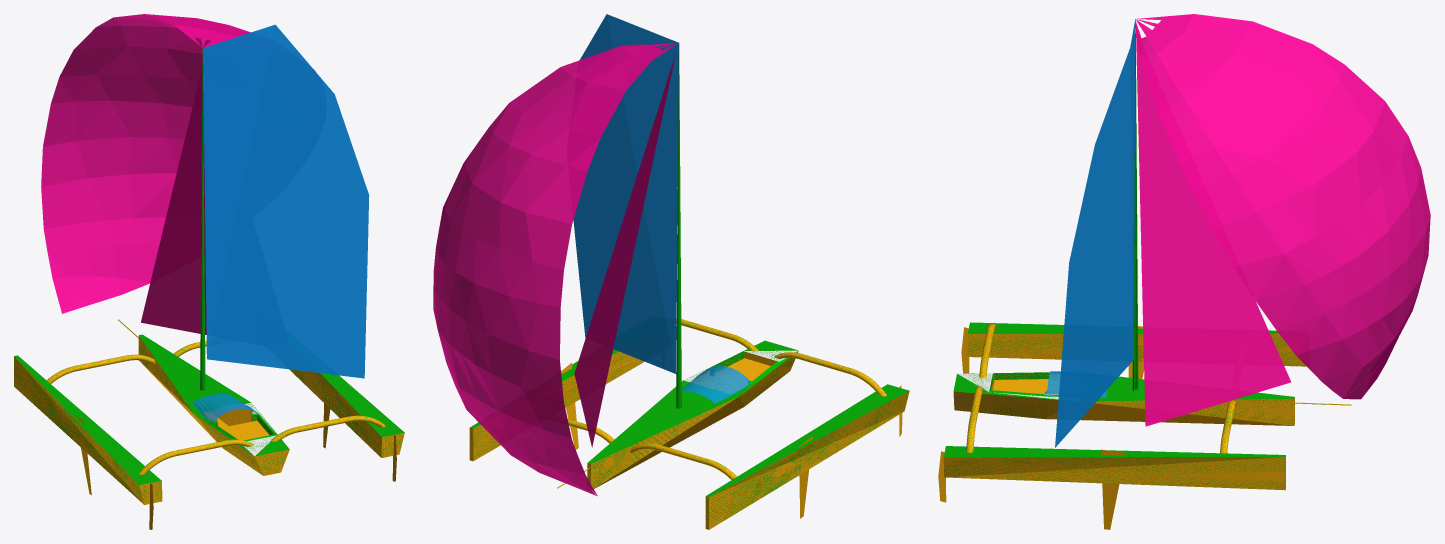
The model's file is spi_babord_trimaran.dae.
3 views of the same model, side by side, from view 1: azimuth 30°, elevation 25°; view 2: azimuth 150°, elevation 25°; view 3: azimuth 270°, elevation 25° (orthographic). The views are drawn at different scales.
Visible parts, largest first — view 1: SketchUp (×17); view 2: SketchUp (×16); view 3: SketchUp (×15).
Boxes of the visible parts, x1,y1,x2,y2 form: SketchUp (×17): [14, 14, 404, 504]; SketchUp (×16): [433, 14, 909, 529]; SketchUp (×15): [943, 14, 1430, 529].
Bounding box in the file's own units: 104604 × 132510 × 137644.
Materials: 21 (5 with a texture image).
